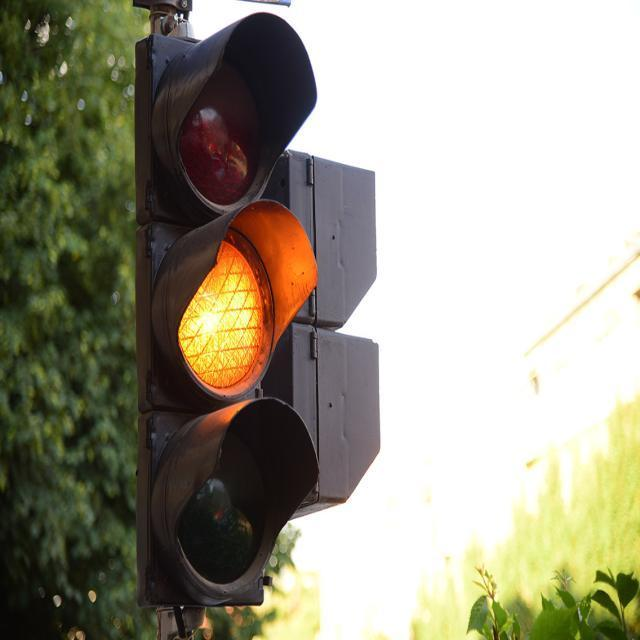yellow_light: (135, 13, 318, 603)
